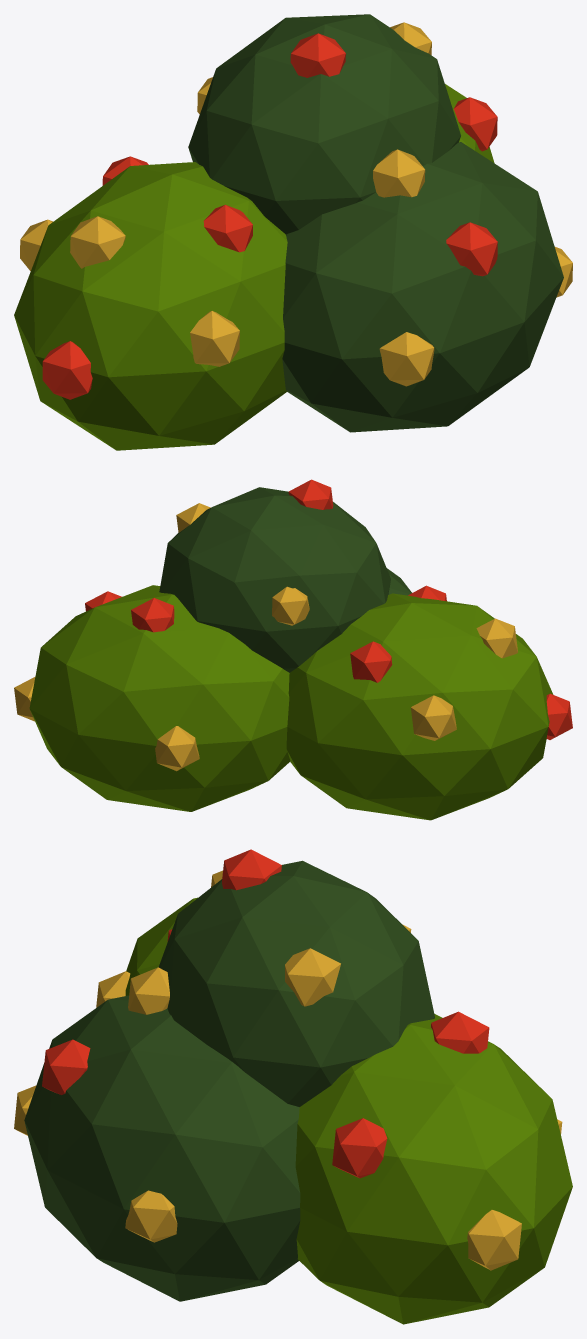
Rendered from Bush_2.glb.
The picture shows the model from 3 angles, top to bottom: view 1: azimuth 30°, elevation 25°; view 2: azimuth 150°, elevation 25°; view 3: azimuth 270°, elevation 25°; orthographic projection. The views are drawn at different scales.
Parts seen in each view (by area): view 1: Bush.002; view 2: Bush.002; view 3: Bush.002.
Part boxes in pixels (x1=…): Bush.002: x1=14, y1=14, x2=572, y2=450; Bush.002: x1=14, y1=479, x2=572, y2=820; Bush.002: x1=14, y1=849, x2=572, y2=1324.
Bounding box in the file's own units: 2.81 × 1.82 × 2.29.
